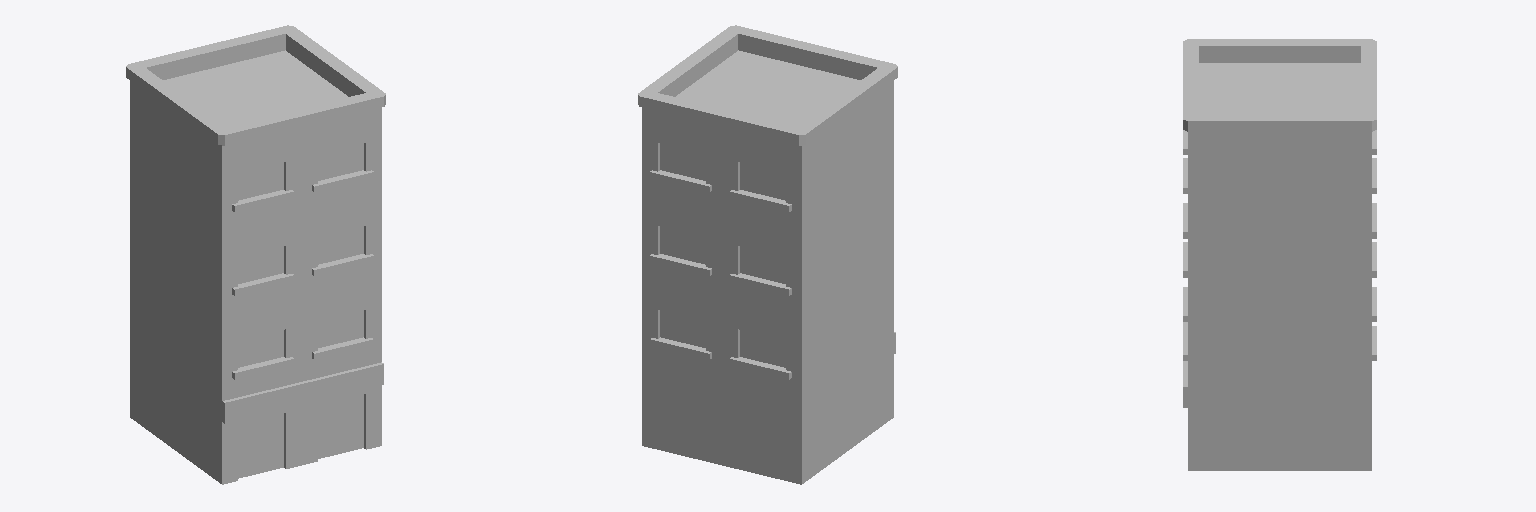
Rendered from buildingB.obj.
3 renders of one model, left to right at view 1: azimuth 30°, elevation 25°; view 2: azimuth 150°, elevation 25°; view 3: azimuth 270°, elevation 25°, orthographic.
Parts seen in each view (by area): view 1: large_buildingB; view 2: large_buildingB; view 3: large_buildingB.
Boxes of the visible parts, <box> form: large_buildingB: <box>126,25,385,484</box>; large_buildingB: <box>638,25,897,484</box>; large_buildingB: <box>1183,39,1376,470</box>.
Bounding box in the file's own units: 4.2 × 8.4 × 4.2.